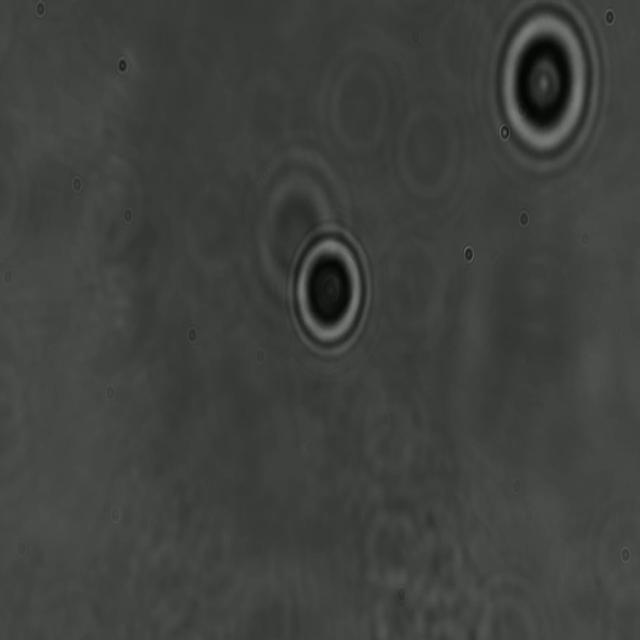DCELL: (280, 206, 379, 369)
LCELL: (487, 0, 604, 177)
